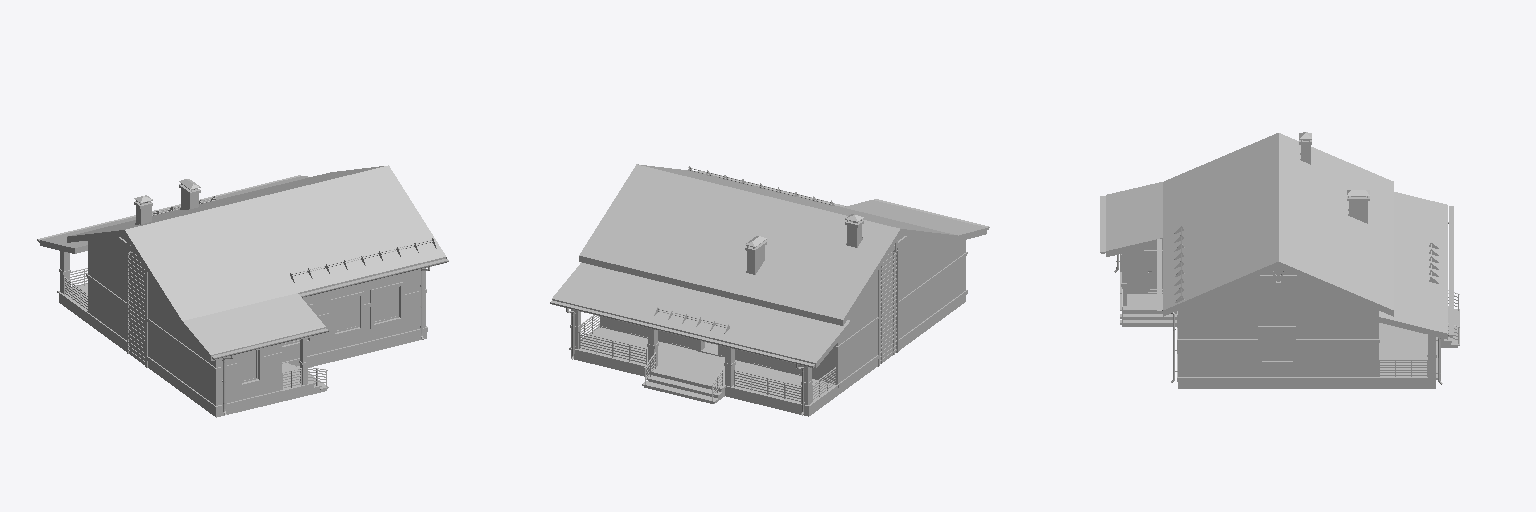
The model's file is Cottage_FREE3.obj.
3 renders of one model, left to right at view 1: azimuth 30°, elevation 25°; view 2: azimuth 150°, elevation 25°; view 3: azimuth 270°, elevation 25°, orthographic.
Parts seen in each view (by area): view 1: Cottage_FREE:Mesh; view 2: Cottage_FREE:Mesh; view 3: Cottage_FREE:Mesh.
Part boxes in pixels (x1,y1,x2,y2): Cottage_FREE:Mesh: (37, 165, 448, 417); Cottage_FREE:Mesh: (550, 164, 989, 416); Cottage_FREE:Mesh: (1100, 132, 1459, 388).
Size of the model in its own units: 12.44 by 6.75 by 14.65.